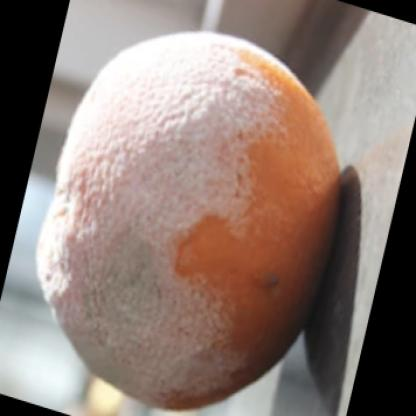rotten: (40, 30, 342, 406)
